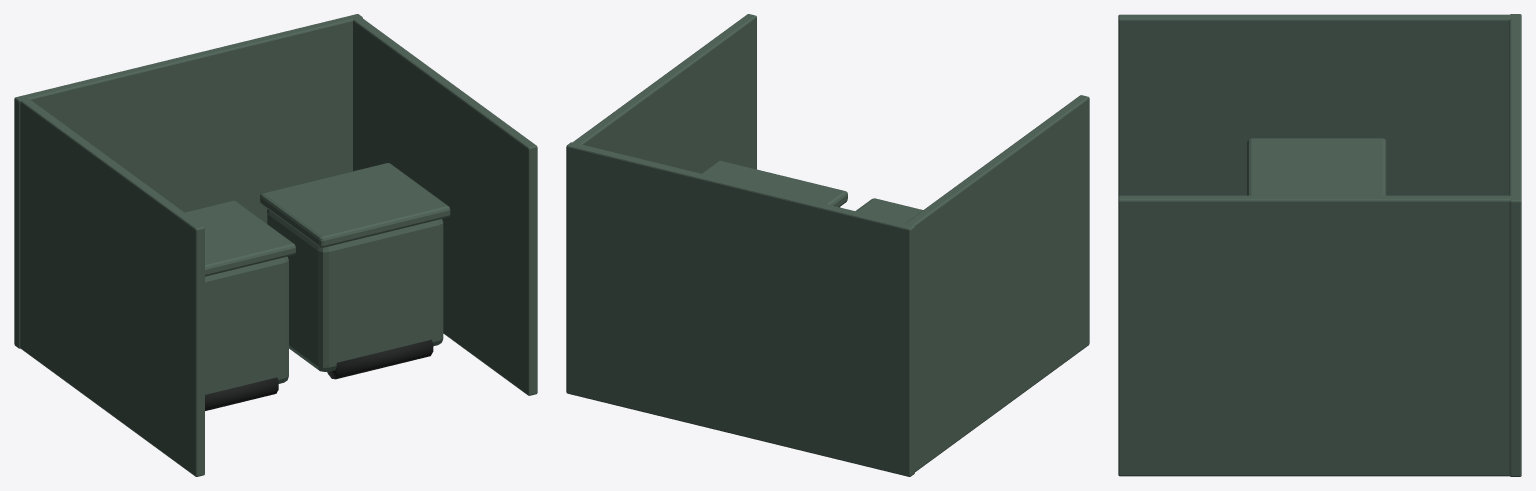
File: SM_District_BinEnclosure.fbx
3 views of the same model, side by side, from view 1: azimuth 30°, elevation 25°; view 2: azimuth 150°, elevation 25°; view 3: azimuth 270°, elevation 25° (orthographic). The views are drawn at different scales.
Parts seen in each view (by area): view 1: SM_District_BinEnclosure; view 2: SM_District_BinEnclosure; view 3: SM_District_BinEnclosure.
Boxes of the visible parts, x1,y1,x2,y2 form: SM_District_BinEnclosure: (14, 14, 537, 476); SM_District_BinEnclosure: (566, 14, 1089, 476); SM_District_BinEnclosure: (1118, 14, 1521, 476).
Size of the model in its own units: 290 by 264 by 200.
